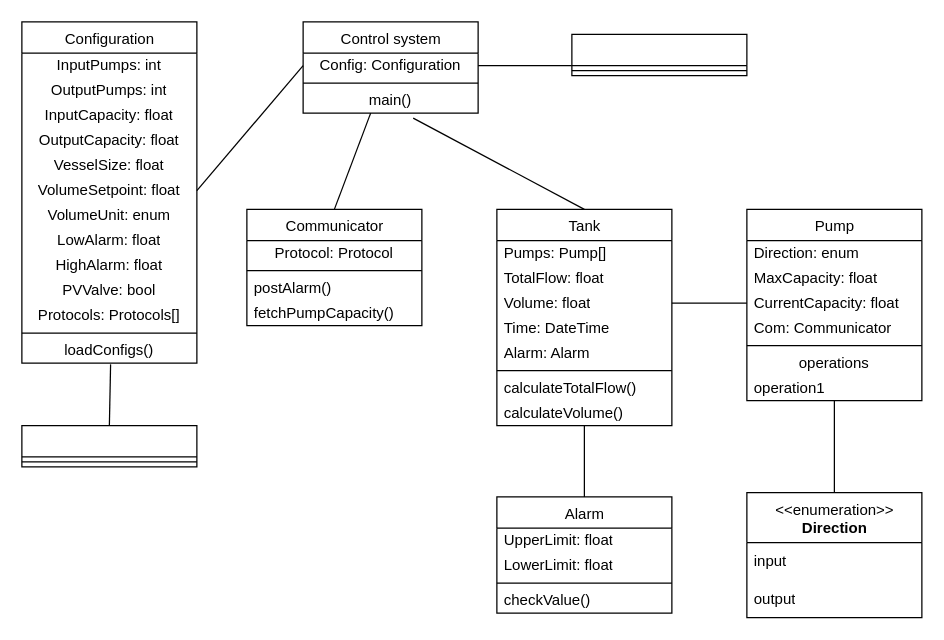
Image size: 944x640. Some labels were removed from this diagram. Here are the shapes that lost their labels. From the top down, the centre of each, then its label:
At (x=659, y=54): "User interface".
At (x=109, y=445): "Protocol".
